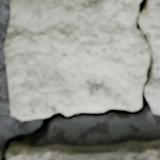brick: (6, 140, 159, 159)
broken_brick: (3, 0, 147, 120), (139, 0, 159, 114)
crack: (0, 0, 158, 159)
